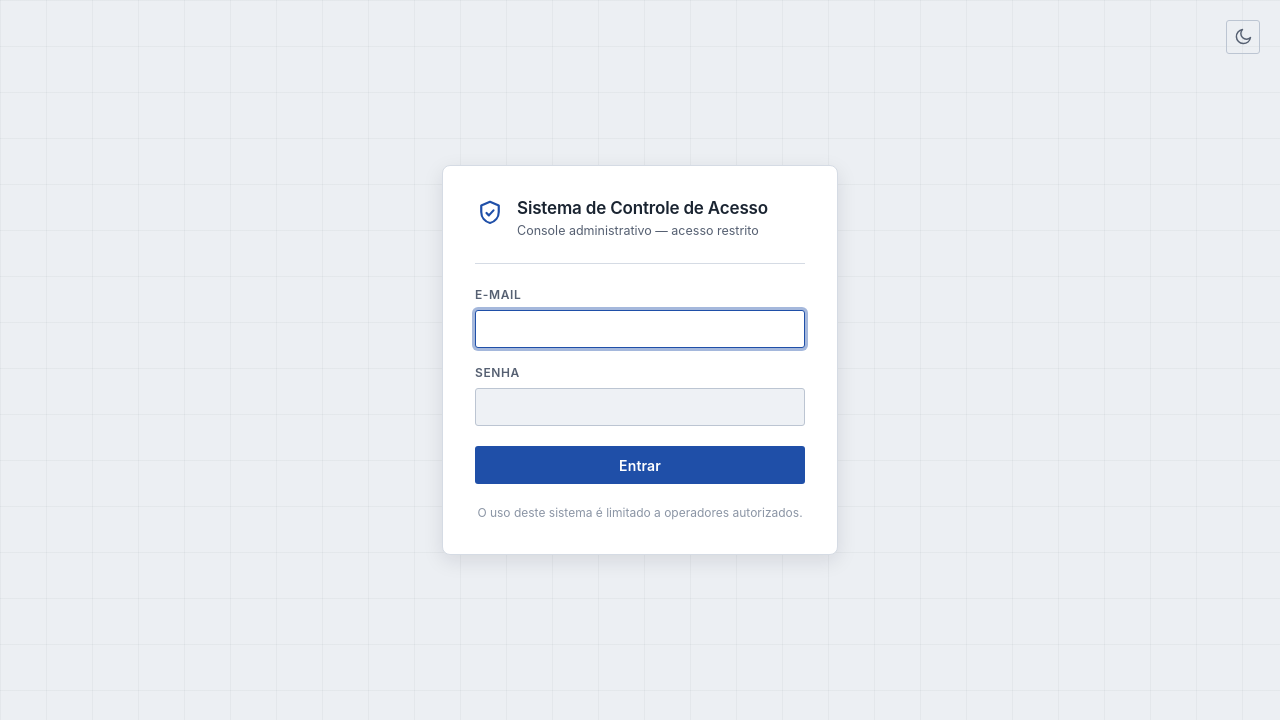
Scenario: LoginPage: falhas de comunicação › mostra a mensagem de falha de comunicação quando o servidor está inacessível
In the field labelled "E-mail": (640, 329) [475, 310, 805, 348], type "ana@example.test"
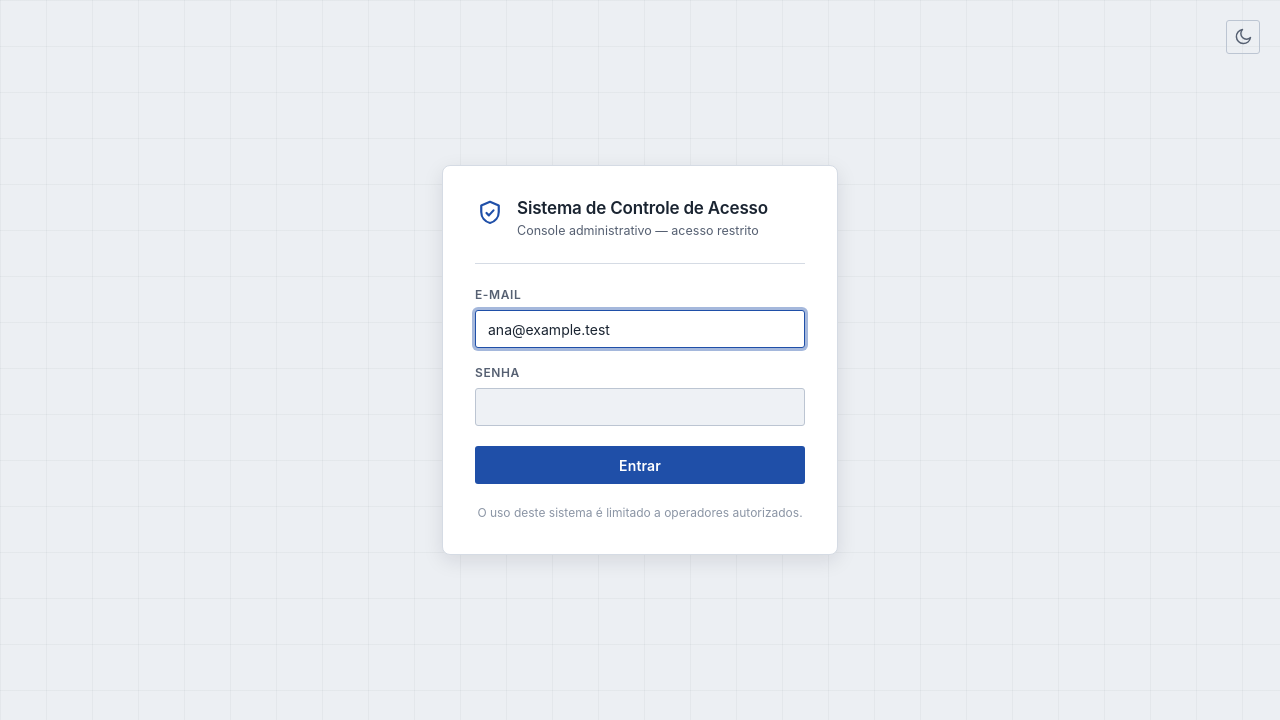
In the password field labelled "Senha": (640, 407) [475, 388, 805, 426], type "senha-secreta"
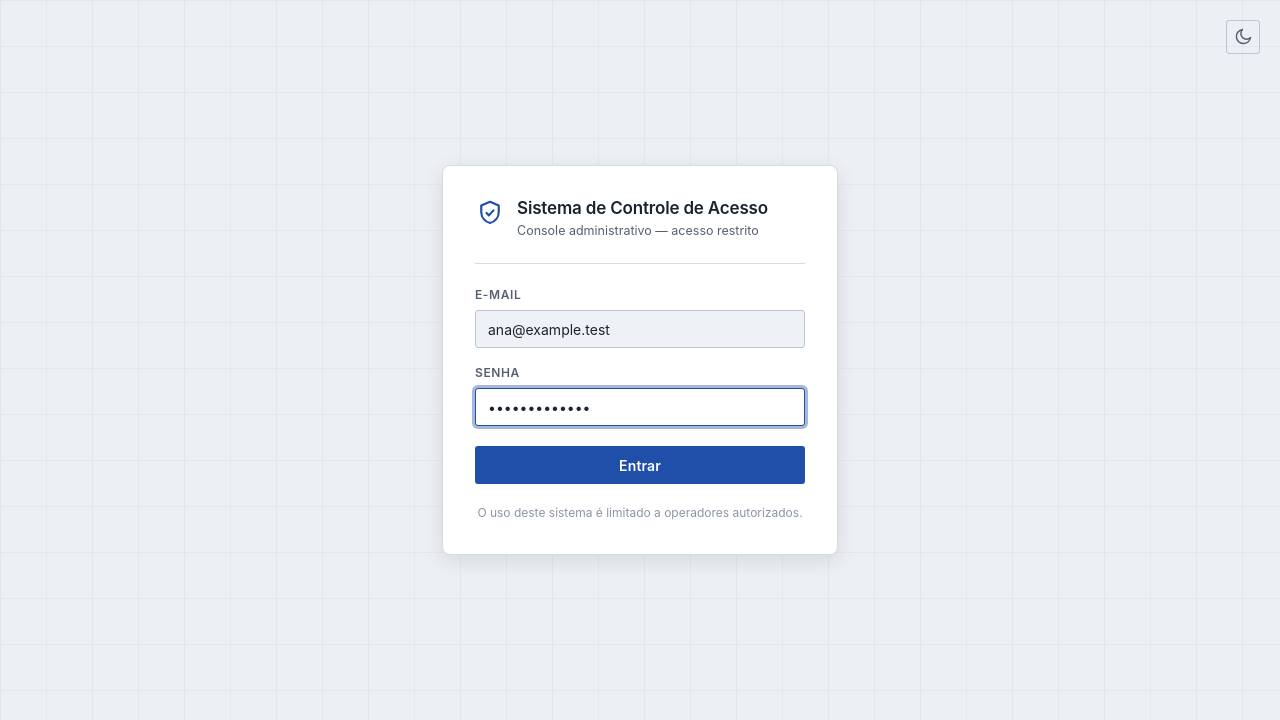
Click the button "Entrar": (640, 465) [475, 446, 805, 484]
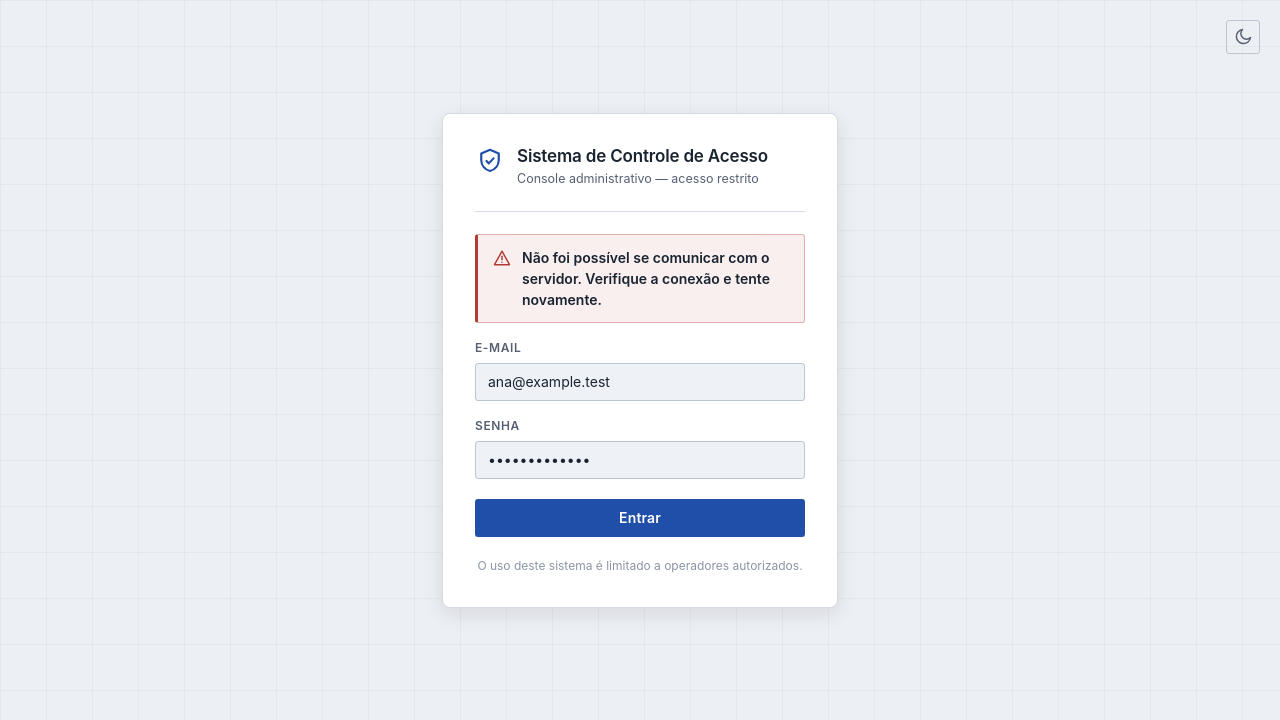
Check: the message shows "Não foi possível se comunicar com o servidor. Verifique a conexão e tente novamente.", box [522, 248, 770, 308]
